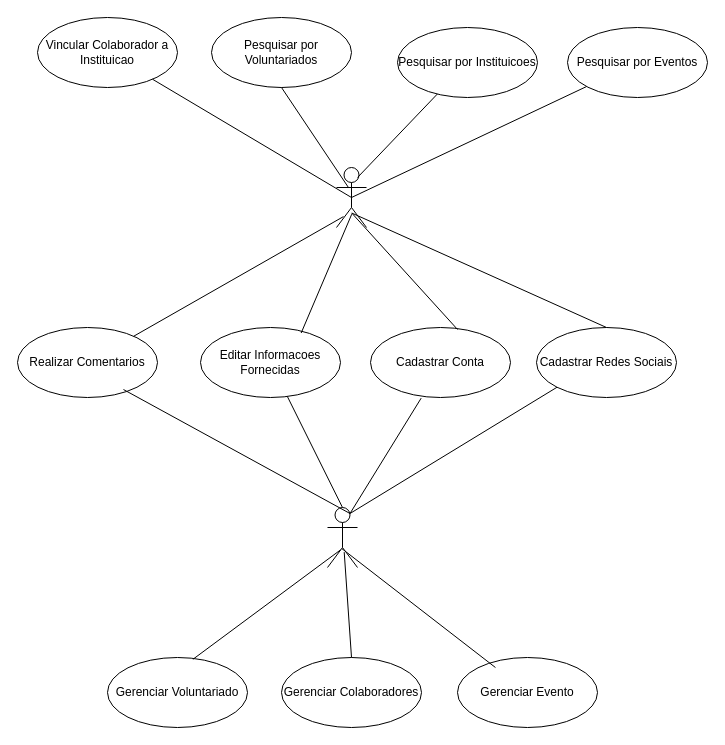
The diagram is 725 pixels wide and 745 high, and some of its shapes have lost their labels. Each missing label, with the centre of its shape:
Instituicao: (342,537)
Voluntario: (351,197)
